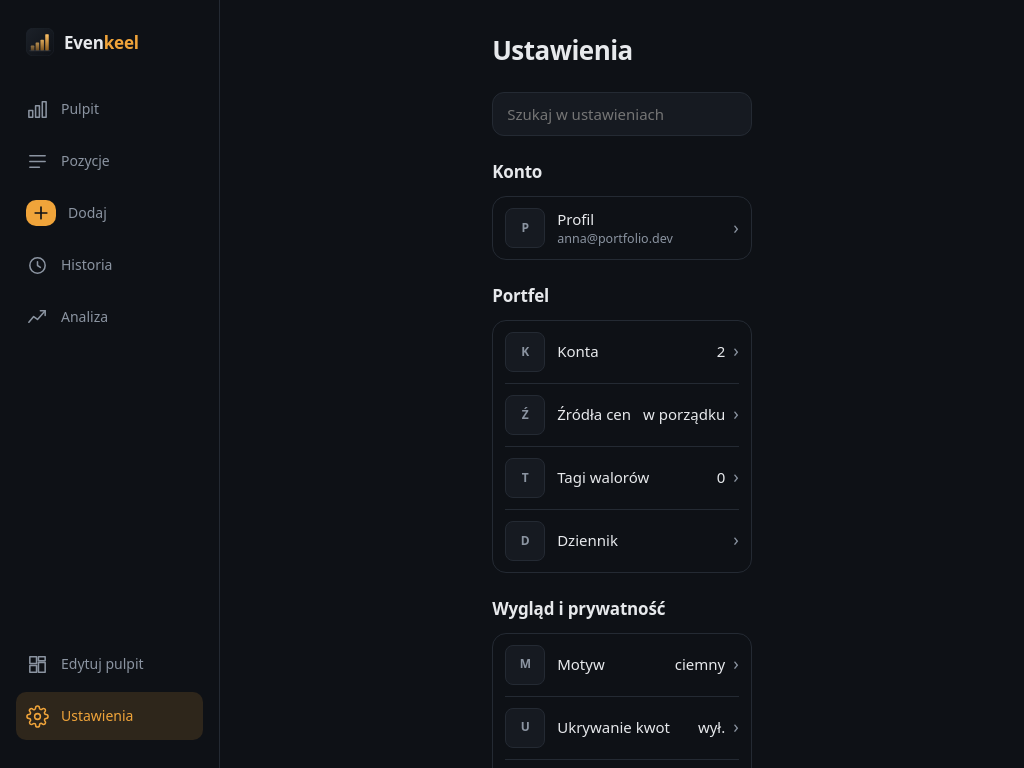
Test: settings screen › searches the settings, the accounts and the tags
Type "hasło" into the search field labelled "Szukaj w ustawieniach" at coordinates (622, 114), box left=492, top=92, right=752, bottom=136
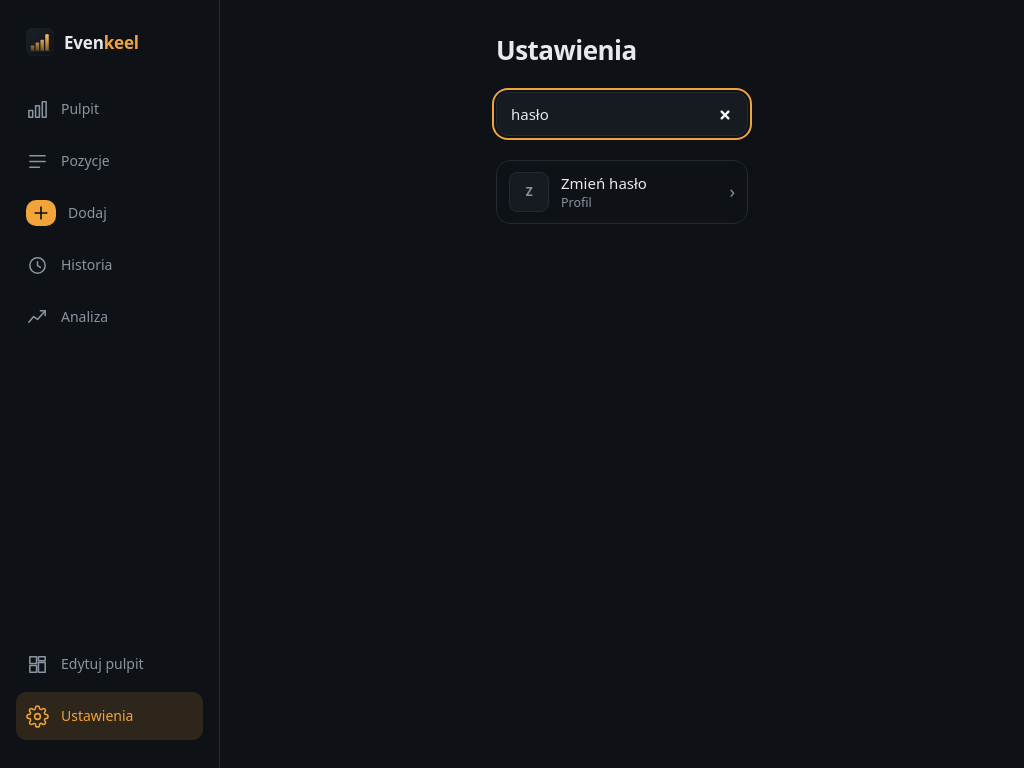
Expected: the heading "Portfel" is gone
Clear the search field at coordinates (622, 114), box left=496, top=92, right=748, bottom=136
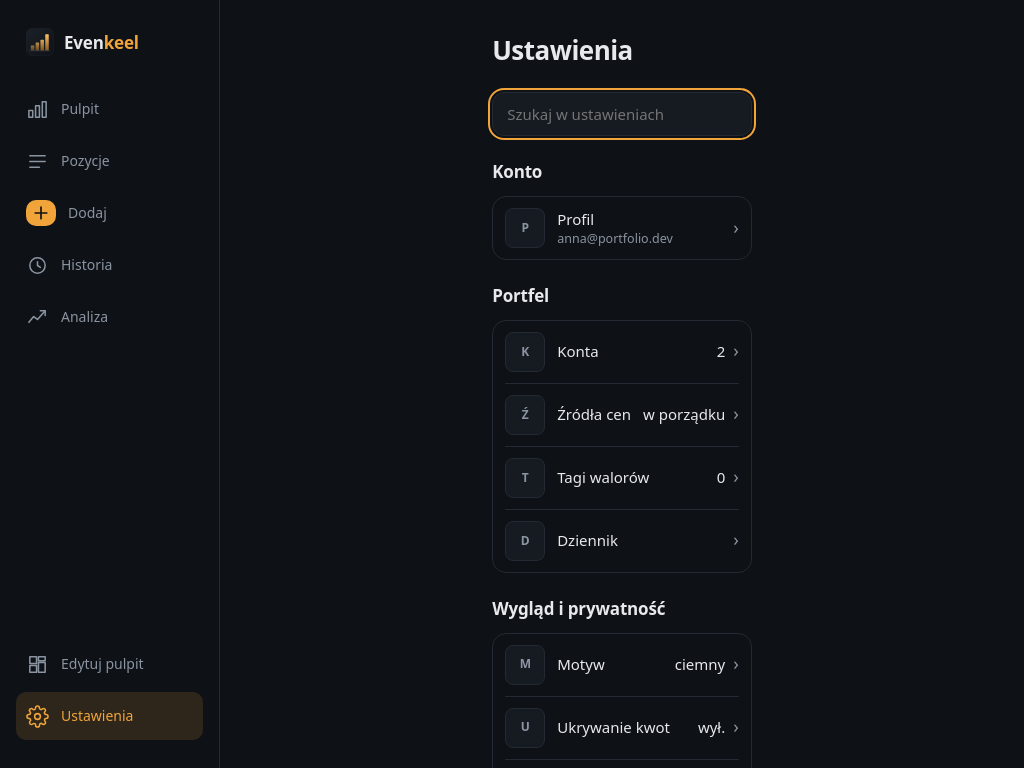
Type "qwerty" into the search field at coordinates (622, 114), box left=492, top=92, right=752, bottom=136
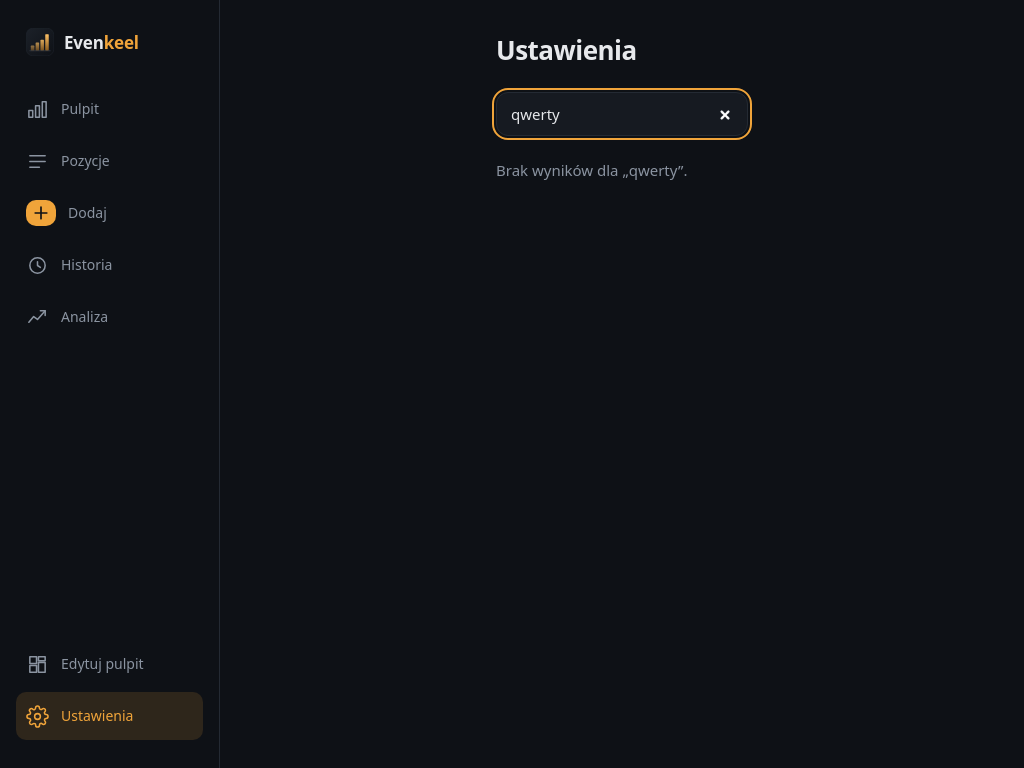
Expected: the text "Brak wyników dla „qwerty”." is shown, left=496, top=160, right=687, bottom=180
